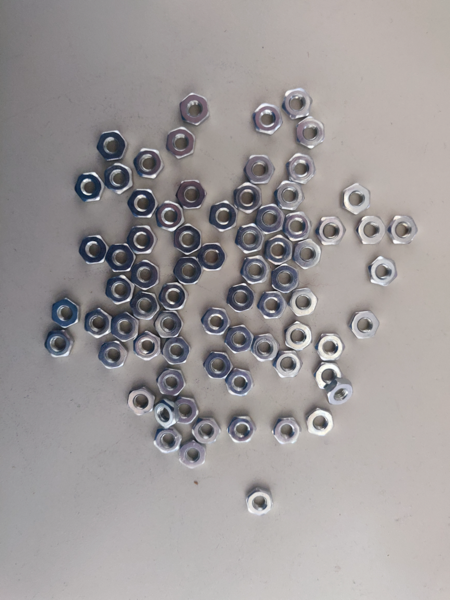nut: (178, 93, 210, 126), (165, 127, 197, 159), (133, 147, 165, 179), (96, 130, 128, 162), (102, 163, 134, 195), (74, 172, 106, 204), (77, 234, 110, 265), (104, 242, 137, 273), (388, 215, 420, 246), (232, 182, 263, 213), (255, 203, 286, 234), (253, 104, 283, 135), (283, 89, 313, 120), (287, 153, 317, 184), (245, 153, 275, 184), (316, 215, 346, 246), (343, 184, 373, 215), (357, 215, 387, 246), (289, 287, 319, 318), (283, 211, 313, 242), (276, 180, 306, 211), (235, 224, 265, 255), (265, 235, 295, 266), (292, 240, 322, 271), (50, 298, 80, 328), (83, 309, 113, 339), (104, 276, 134, 306), (127, 225, 157, 255), (177, 180, 207, 210), (209, 201, 239, 231), (296, 118, 326, 148), (368, 256, 398, 286), (316, 333, 346, 363), (284, 322, 314, 352), (258, 291, 288, 321), (159, 282, 189, 312), (161, 336, 191, 366), (154, 310, 184, 340), (351, 310, 380, 341), (227, 283, 256, 314), (201, 306, 230, 337), (198, 241, 227, 272), (273, 416, 302, 447), (226, 367, 255, 398), (205, 350, 234, 381), (225, 323, 254, 354), (252, 333, 281, 364), (44, 329, 74, 358), (98, 341, 128, 370), (129, 189, 159, 218), (174, 256, 203, 286), (156, 201, 185, 231), (228, 414, 257, 444), (307, 408, 336, 438), (131, 260, 161, 289), (157, 368, 187, 397), (246, 487, 275, 517), (174, 224, 202, 255), (133, 331, 162, 360), (275, 349, 303, 379), (271, 264, 299, 294), (242, 255, 270, 285), (127, 387, 156, 415), (327, 378, 355, 406), (315, 361, 343, 389), (112, 313, 140, 341), (154, 427, 183, 454), (129, 295, 159, 321), (152, 400, 179, 428), (193, 419, 222, 445), (179, 442, 208, 468), (193, 420, 222, 446), (173, 397, 200, 424)
